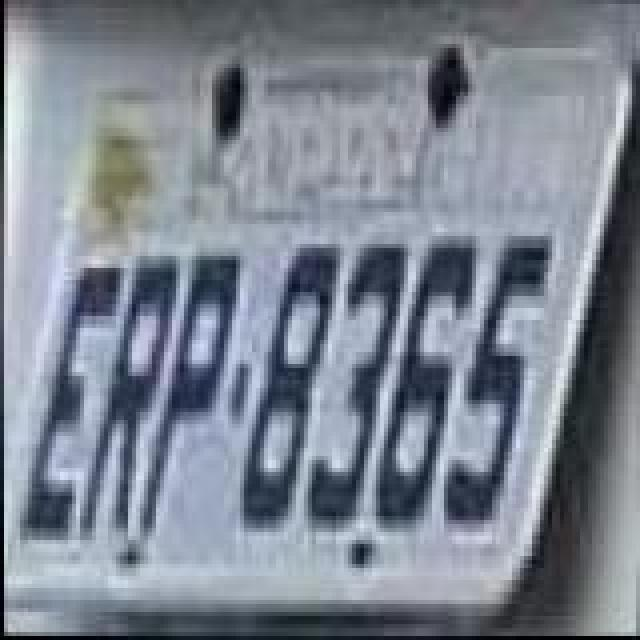3: (306, 240, 414, 524)
5: (440, 234, 552, 530)
6: (370, 242, 478, 526)
8: (234, 248, 342, 532)
E: (16, 262, 128, 546)
P: (134, 254, 242, 538)
R: (80, 254, 184, 538)
